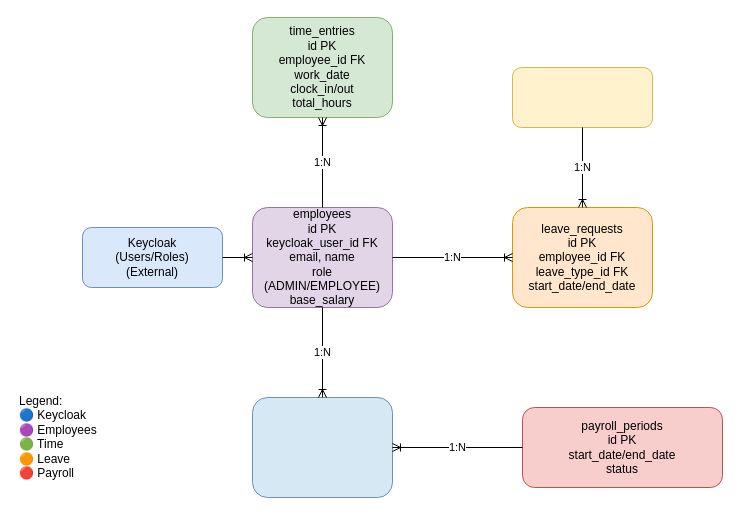
This 740x515 diagram has some shape labels left out. Each missing label, with the centre of its shape:
"leave_types id PK code (VACATION,SICK,PTO)" belongs at (x=582, y=97).
"payslips id PK employee_id FK payroll_period_id FK gross/net_pay" belongs at (x=322, y=447).
